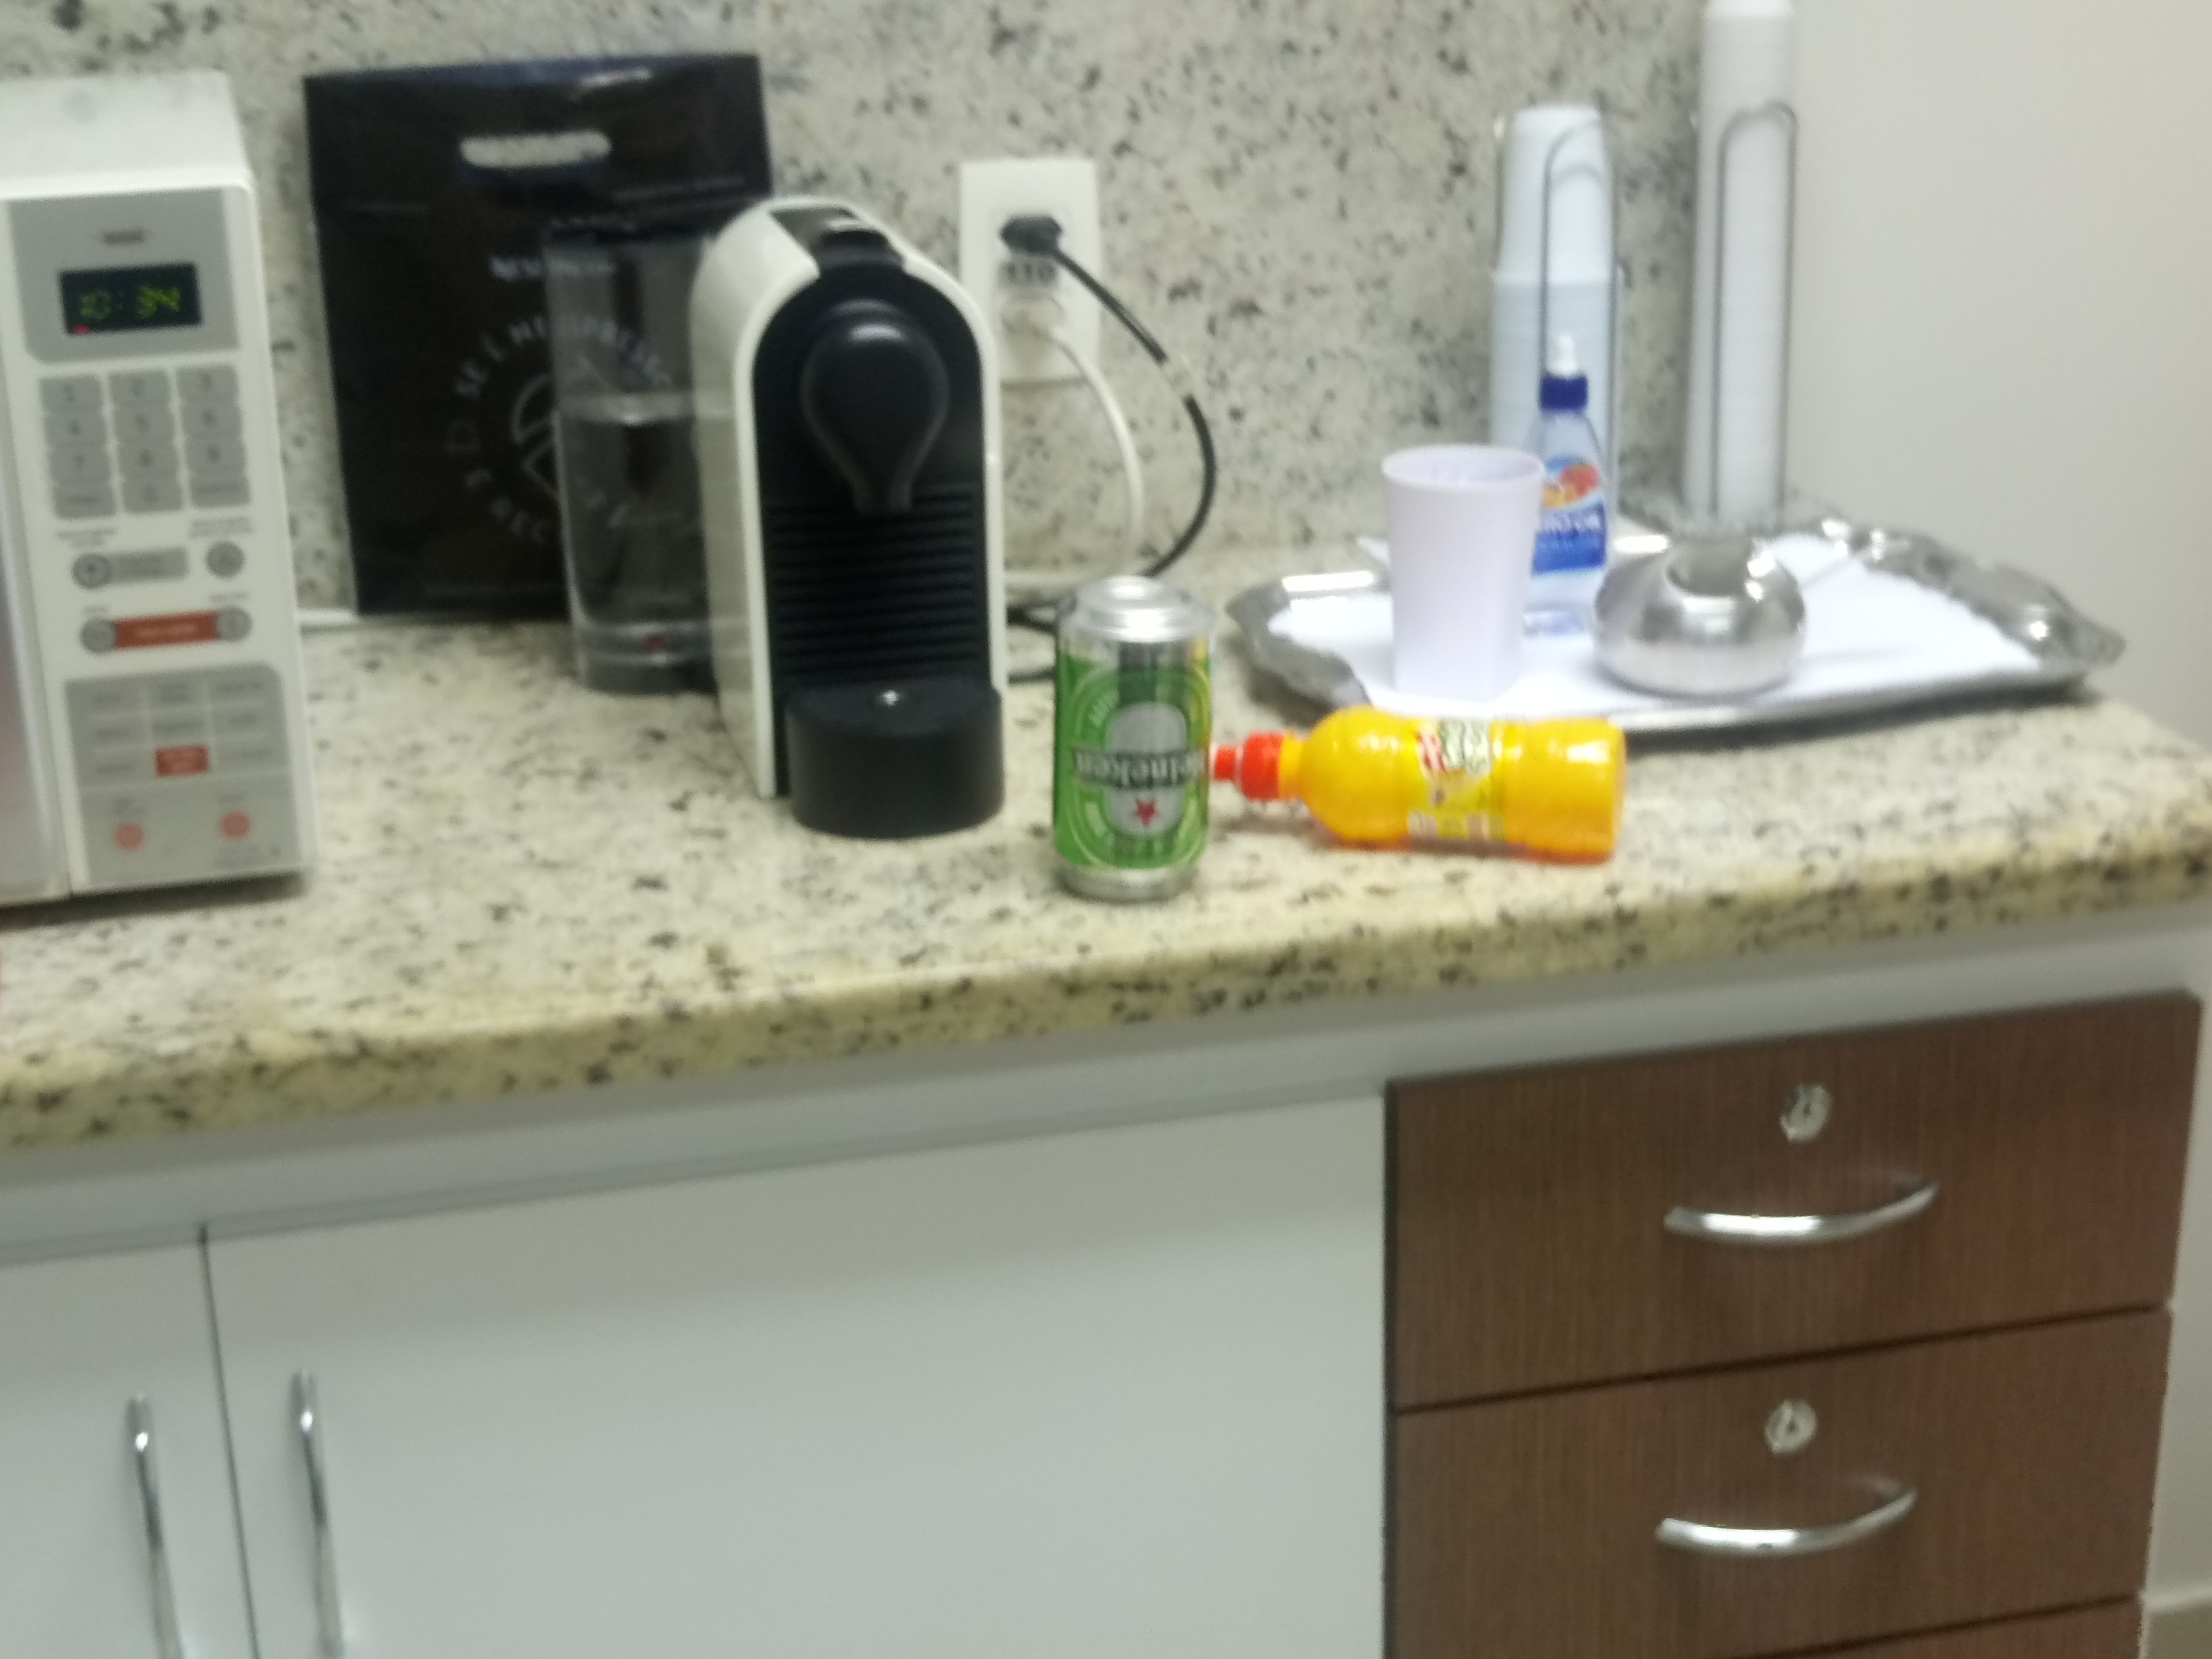heineken: (1052, 572, 1214, 915)
yellow_juice: (1211, 709, 1625, 863)
